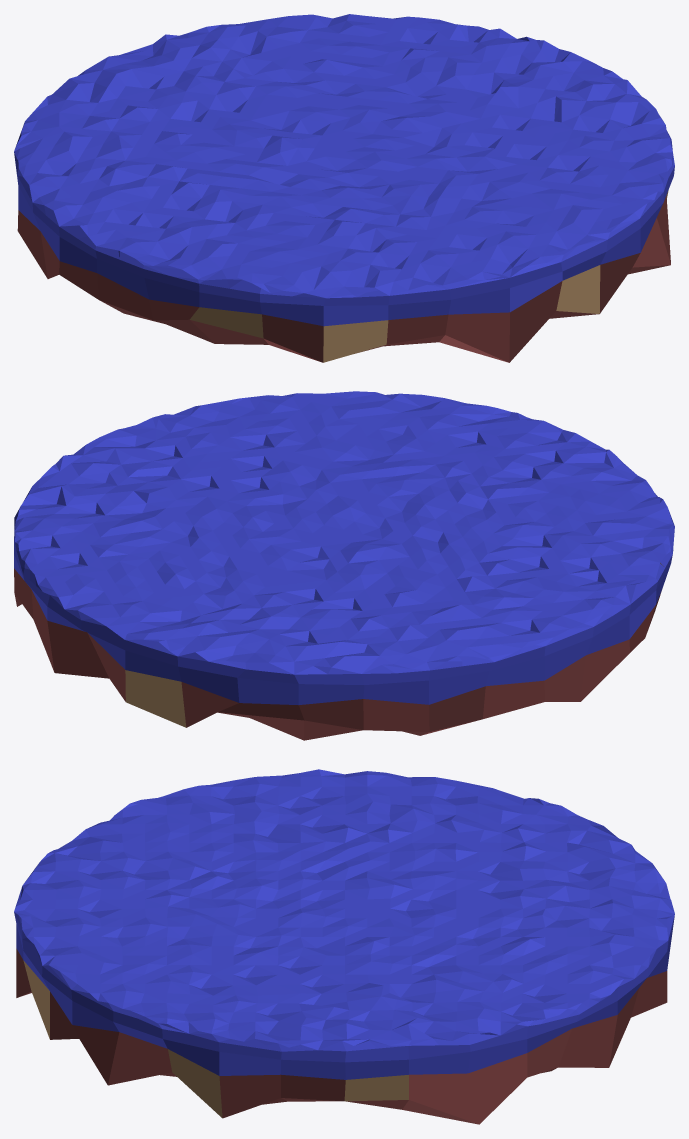
File: water.fbx
The picture shows the model from 3 angles, top to bottom: view 1: azimuth 30°, elevation 25°; view 2: azimuth 150°, elevation 25°; view 3: azimuth 270°, elevation 25°; orthographic projection.
Parts seen in each view (by area): view 1: Water; view 2: Water; view 3: Water.
Boxes of the visible parts, <box> form: Water: <box>14,14,674,362</box>; Water: <box>14,391,674,740</box>; Water: <box>14,769,674,1124</box>.
Size of the model in its own units: 1732 by 286 by 1742.
